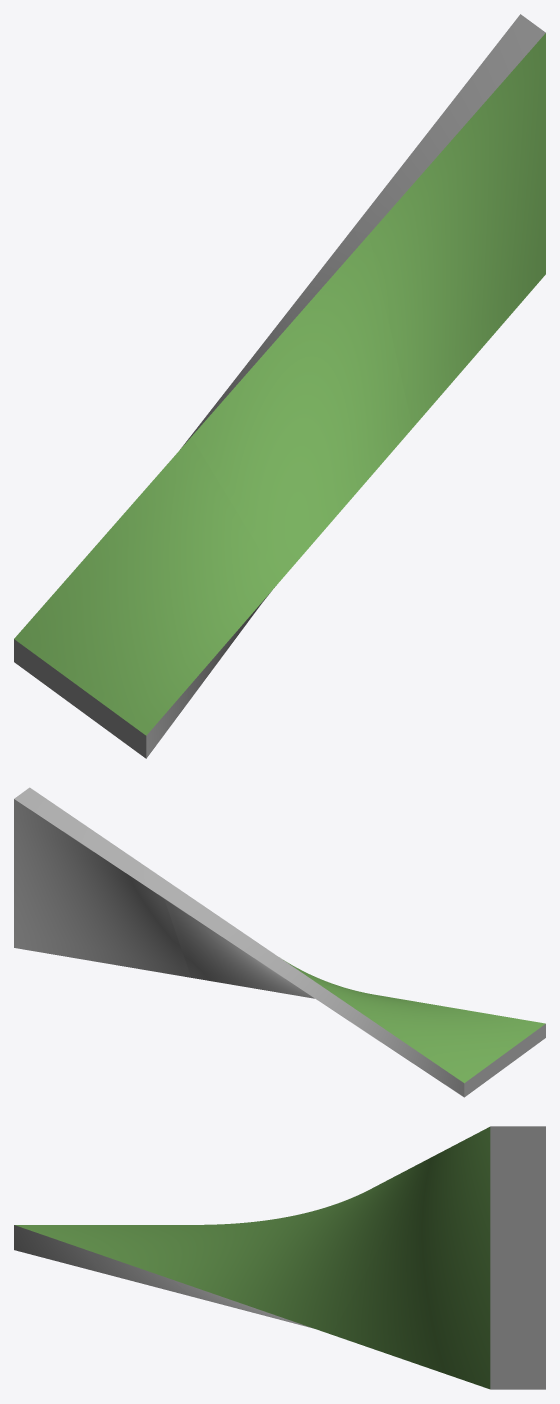
File: WallRunRamp.fbx
The picture shows the model from 3 angles, top to bottom: view 1: azimuth 30°, elevation 25°; view 2: azimuth 150°, elevation 25°; view 3: azimuth 270°, elevation 25°; orthographic projection. The views are drawn at different scales.
Parts seen in each view (by area): view 1: pCube1; view 2: pCube1; view 3: pCube1.
Part boxes in pixels (<box>): pCube1: <box>14,14,545,758</box>; pCube1: <box>14,787,545,1097</box>; pCube1: <box>14,1126,545,1389</box>.
Size of the model in its own units: 140 by 89.84 by 95.77.
